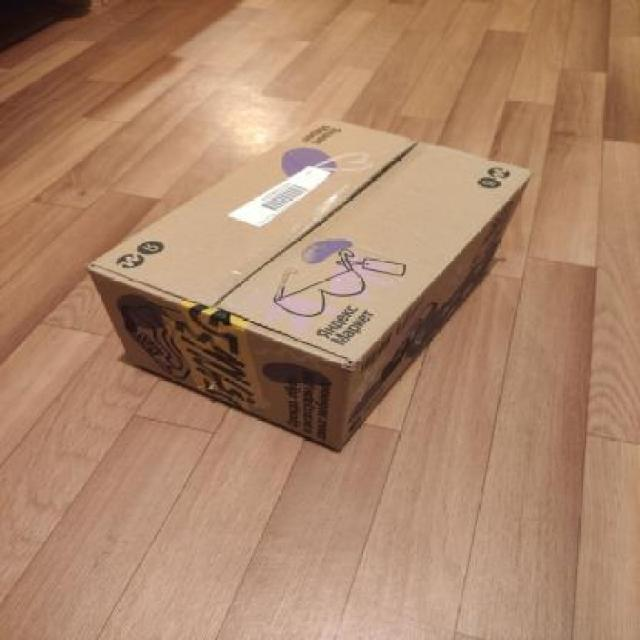box: (79, 109, 550, 456)
